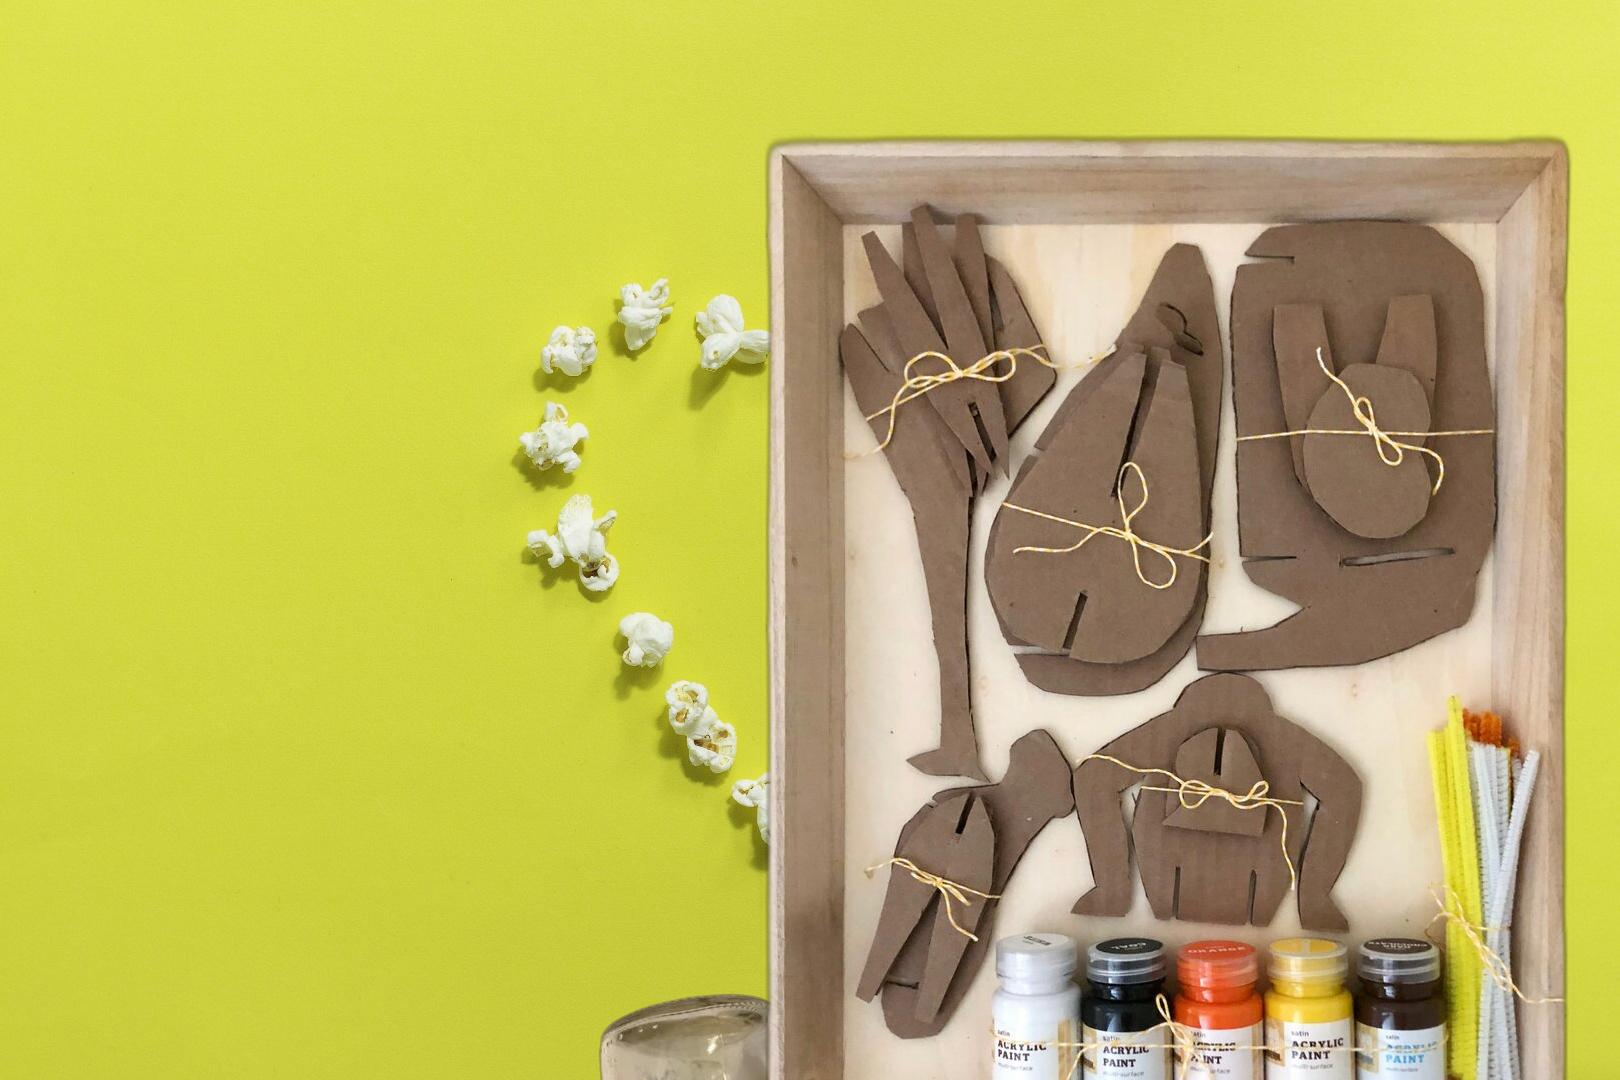glass: (595, 991, 837, 1080)
trashbox-cardboard: (757, 125, 1618, 1080)
